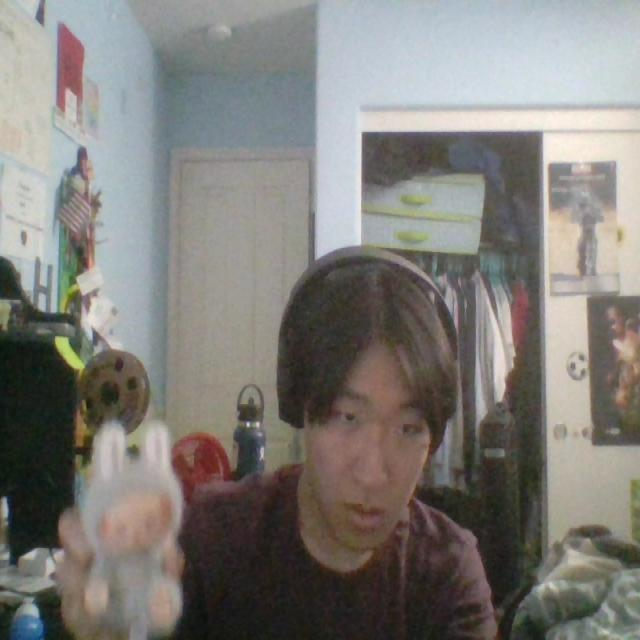labubu: (77, 416, 183, 639)
